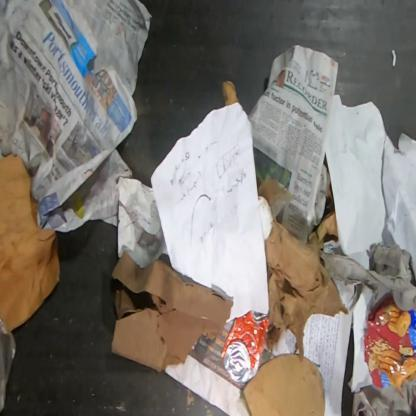cardboard: (111, 251, 232, 372), (265, 184, 348, 357), (0, 151, 60, 330), (364, 287, 415, 391), (242, 352, 324, 416), (258, 175, 295, 206), (222, 80, 239, 106)
metal: (221, 310, 270, 384)
soft_plastic: (318, 242, 415, 315), (351, 375, 416, 416), (0, 314, 18, 415)
